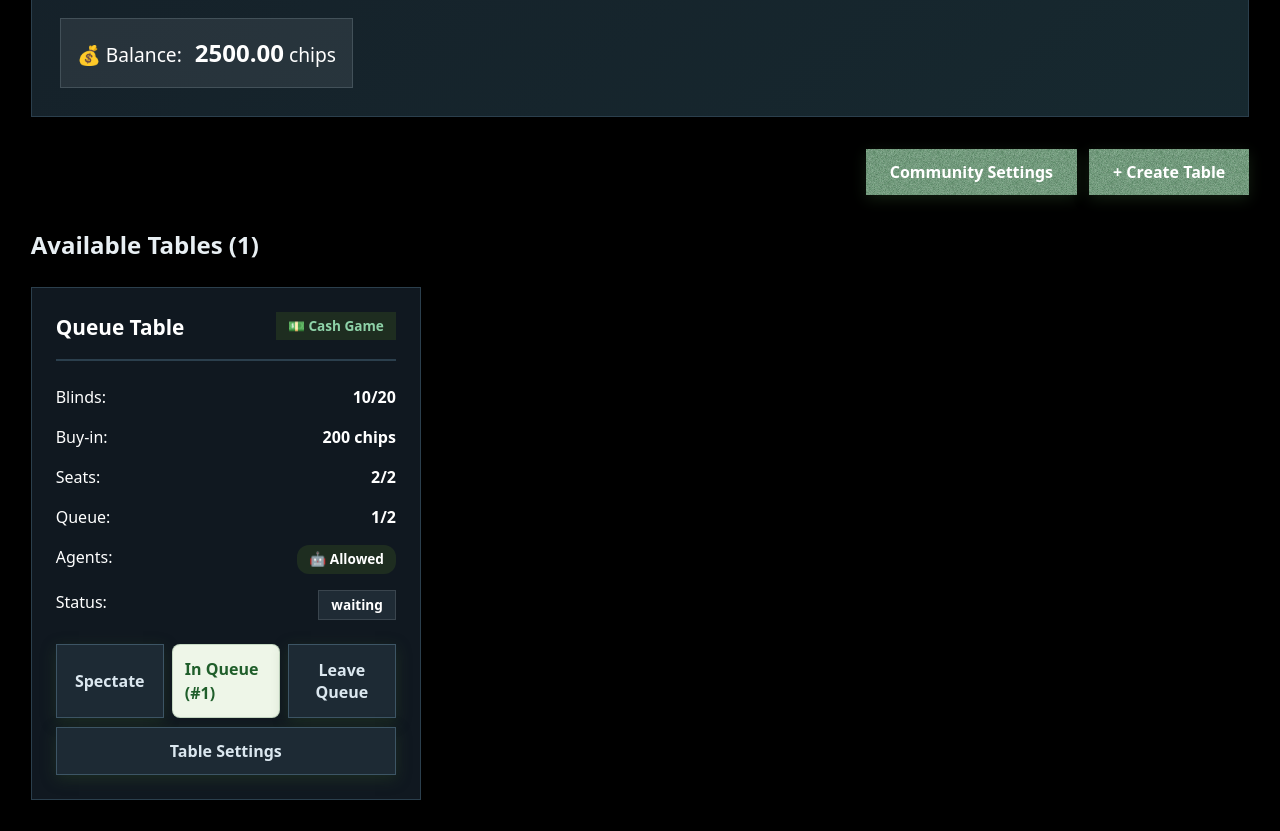
Test case: CommunityLobbyPage behavior › updates the card back to not-queued state after leaving the queue without opening the modal
(page scrolled)
Click the button with test id "leave-queue-button".
click(342, 681)  # box [288,644,396,718]
(page scrolled)
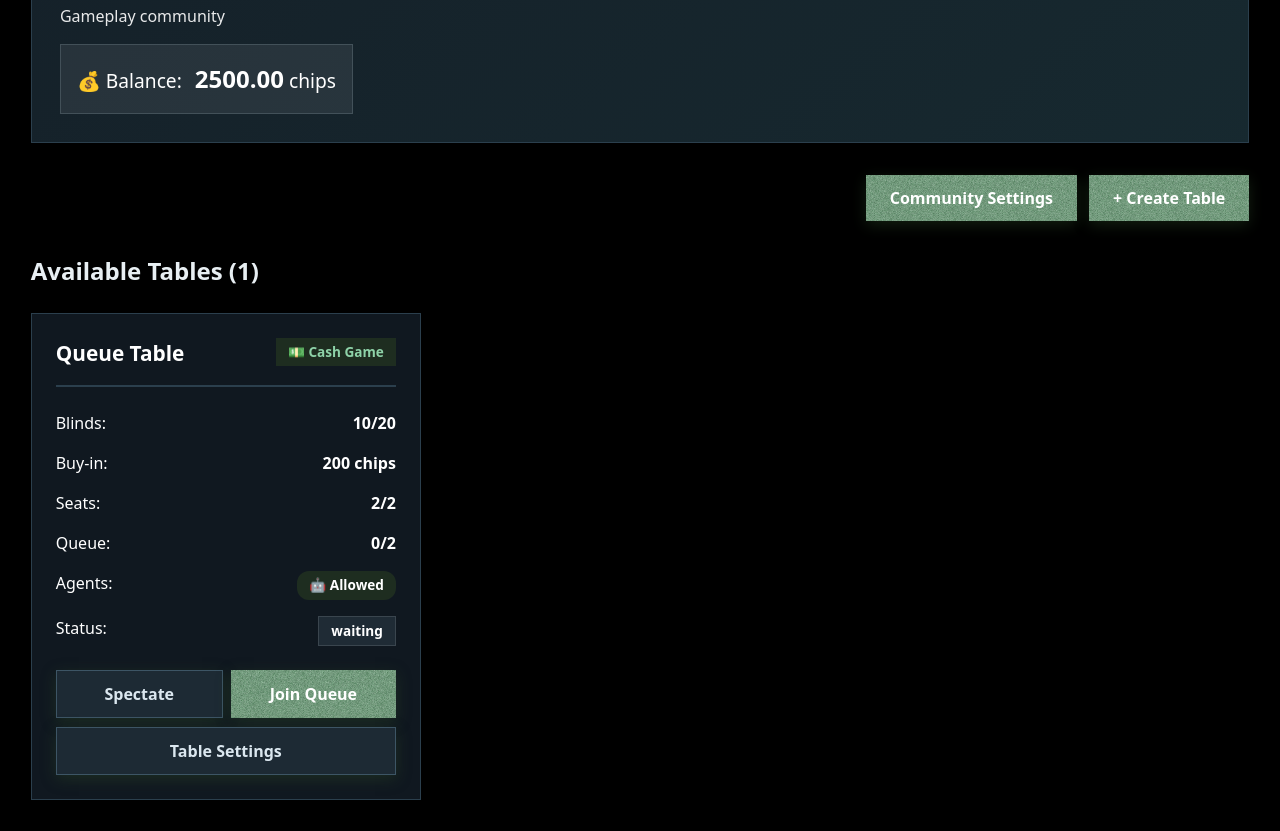
Expected: the button with test id "join-queue-button" reads "Join Queue", [231,670,396,718]
Expected: the text with test id "queue-position-label" is gone
